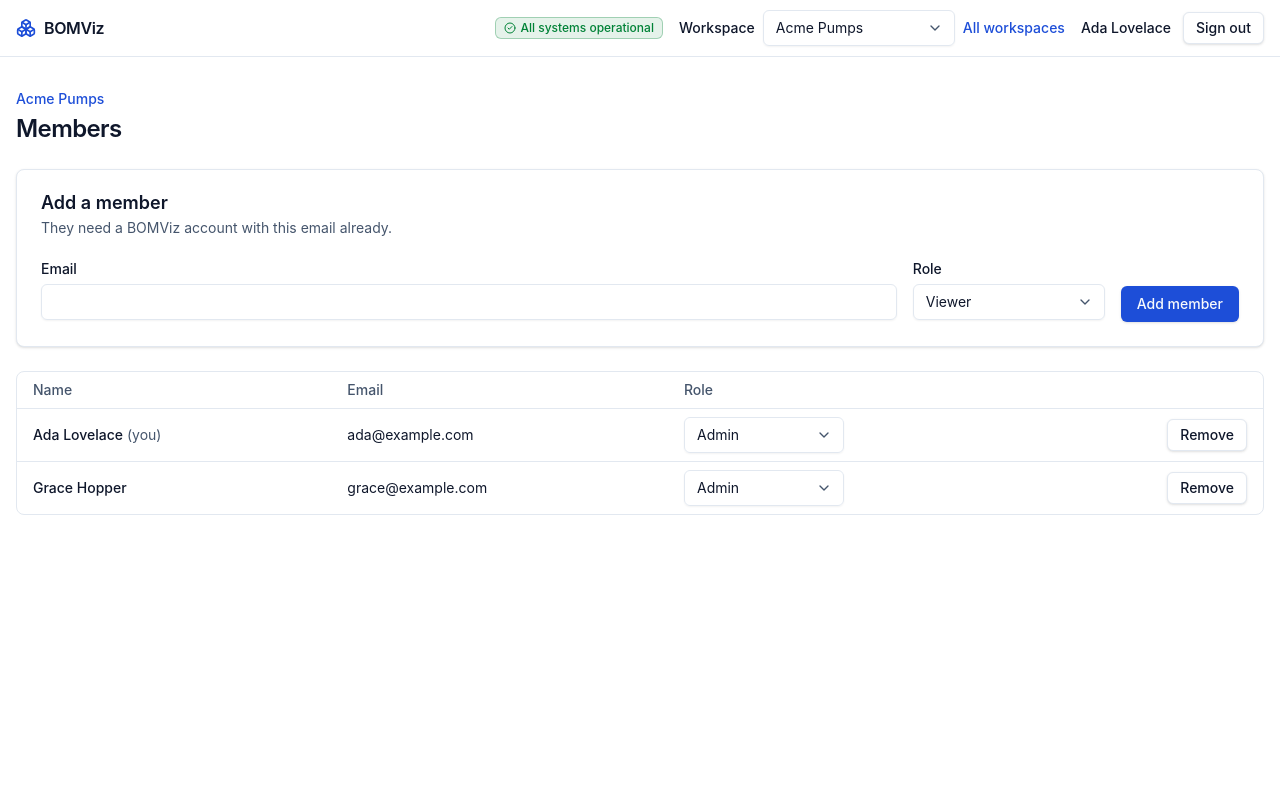
Test case: removing a member › keeps the dialog open with the LAST_ADMIN message when the server refuses
Step 1. Click the button named "Remove Grace Hopper" → (1207, 488), box [1167,472,1247,504]
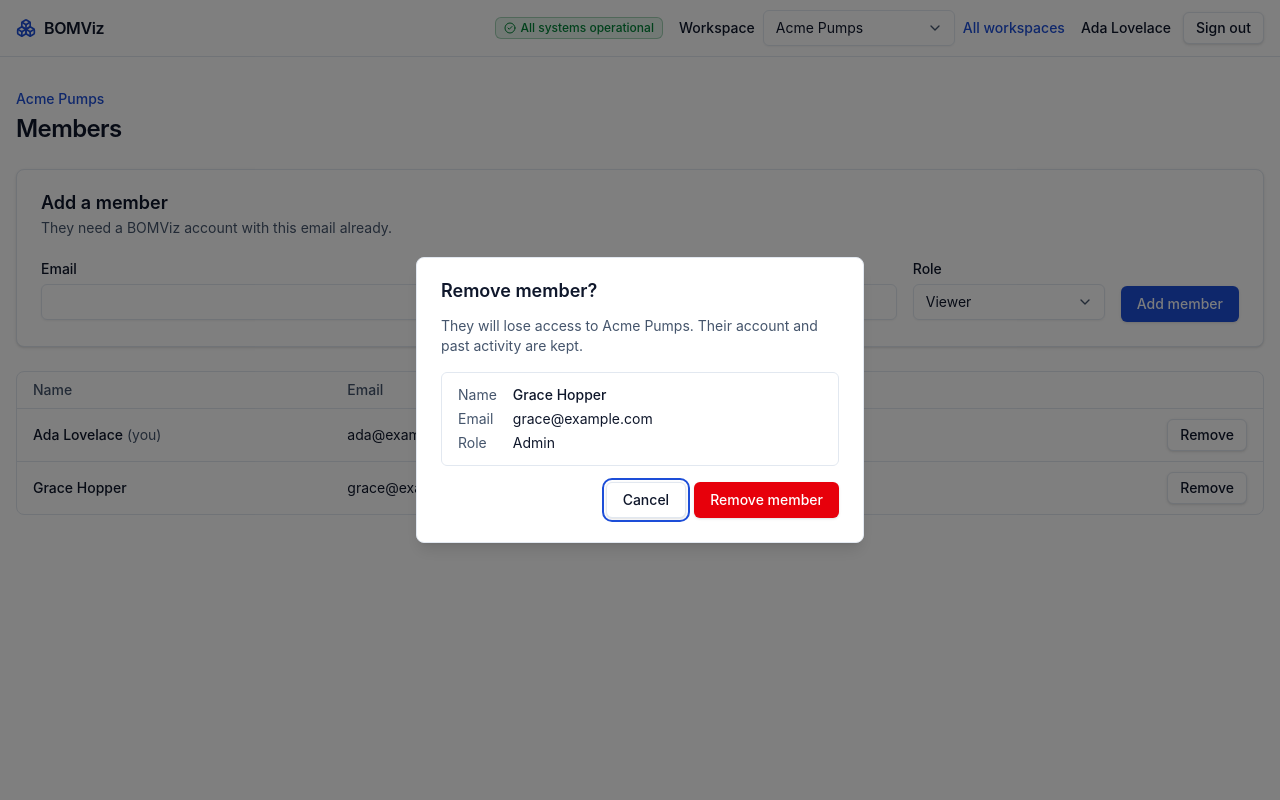
Step 2. Click the button "Remove member" → (767, 500), box [694,482,839,518]
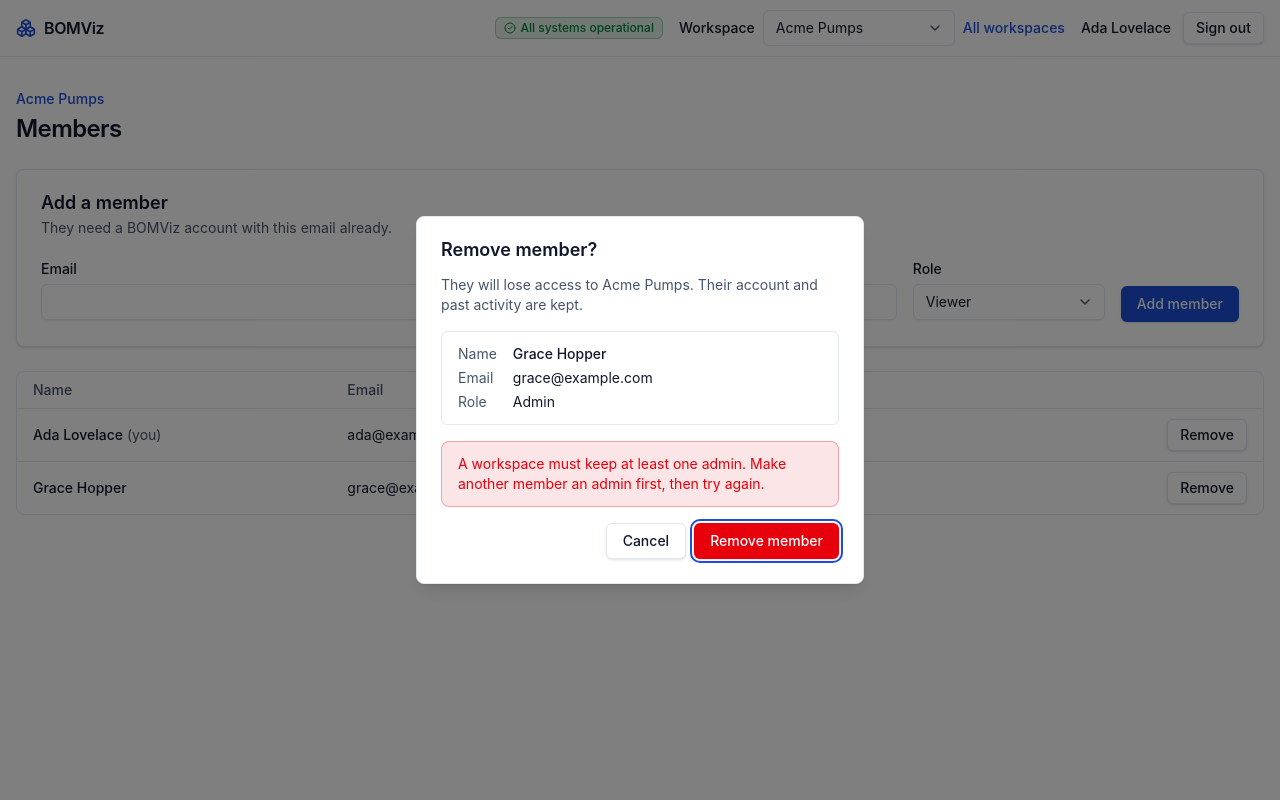
expect the column heading "Grace Hopper" is shown: met, box [17,462,331,514]
expect the message shows "A workspace must keep at least one admin.": met, box [458,455,786,492]
